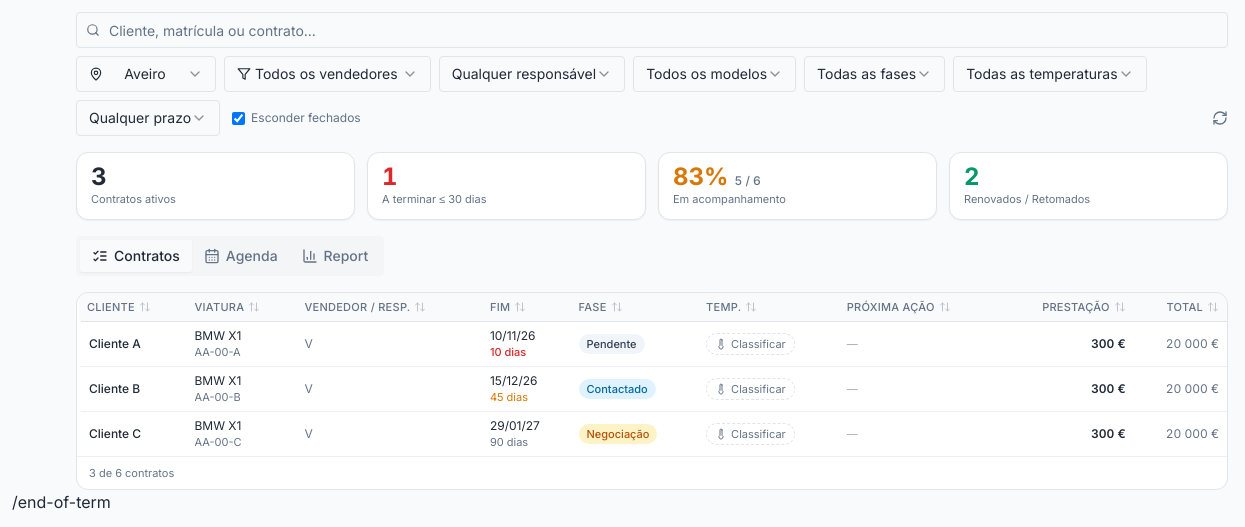
Test case: EndOfTermPage — contadores clicáveis › clicar em "≤ 30 dias" filtra a lista; clicar outra vez limpa
Click the button "1 A terminar ≤ 30 dias": click(434, 199) [367,152,646,220]
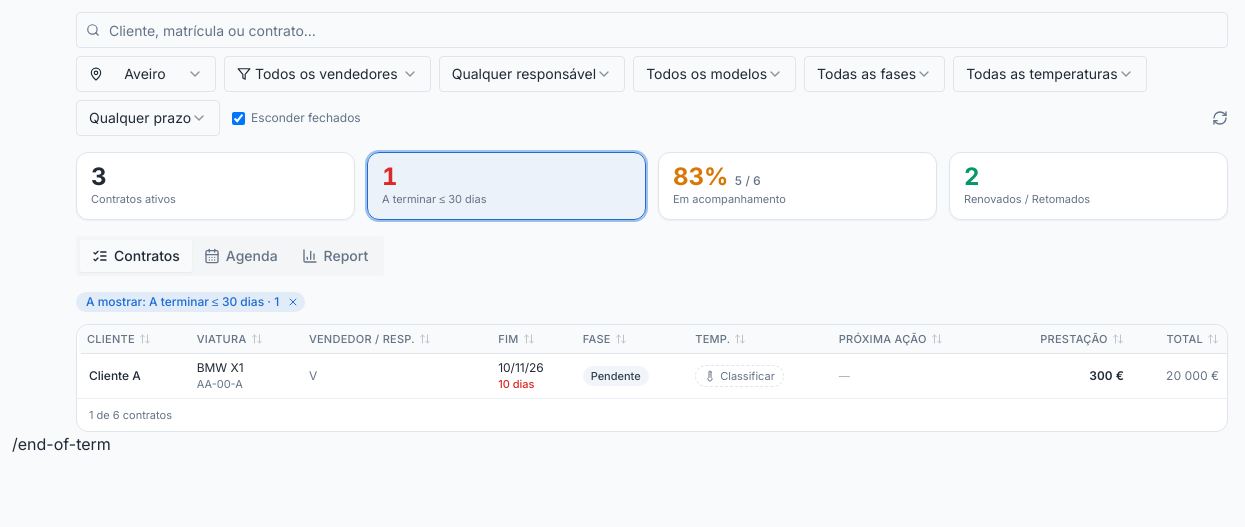
Check: the text "A mostrar: A terminar ≤ 30 dias · 1" is shown, box [76,292,305,312]
Check: the text "Cliente B" is gone
Click the button "1 A terminar ≤ 30 dias": click(434, 199) [367,152,646,220]
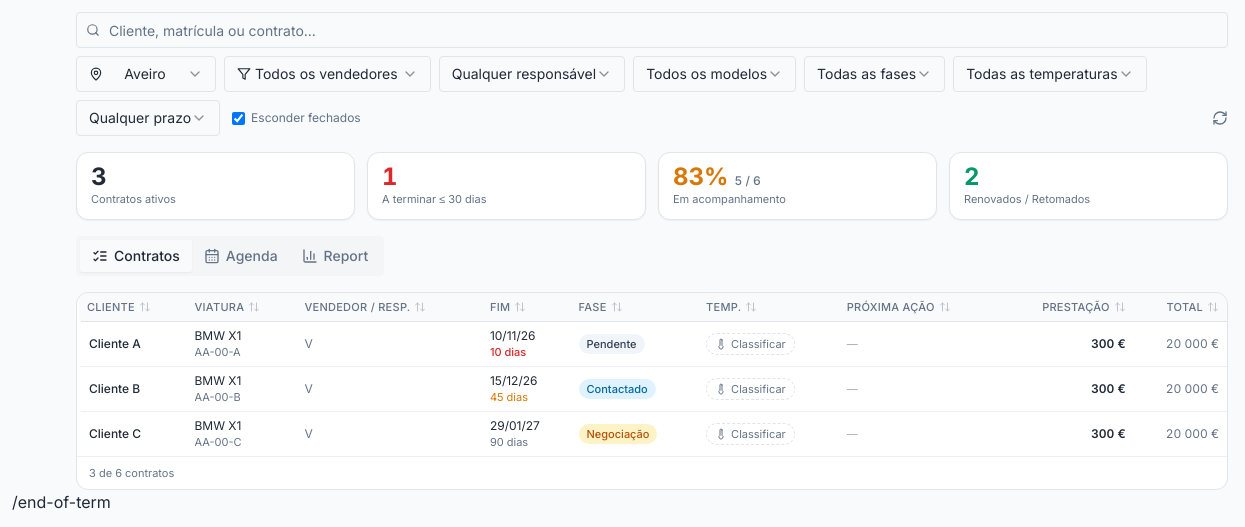
Check: the text "A mostrar:" is gone
